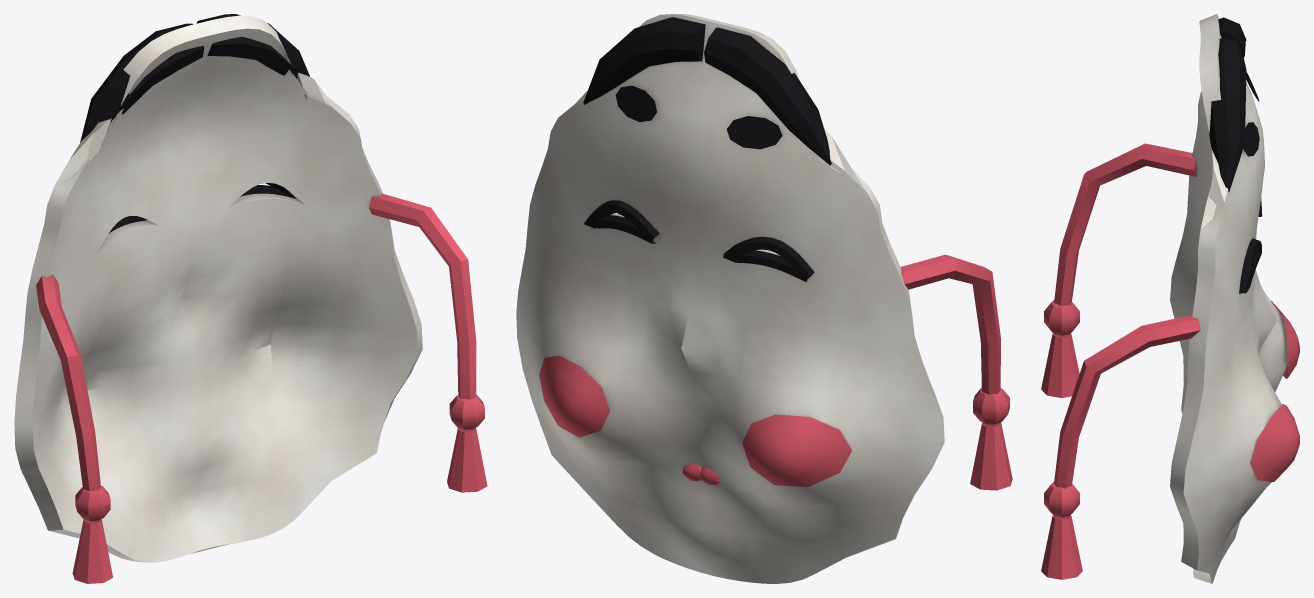
The model's file is mask_okame.fbx.
3 views of the same model, side by side, from view 1: azimuth 30°, elevation 25°; view 2: azimuth 150°, elevation 25°; view 3: azimuth 270°, elevation 25° (orthographic). The views are drawn at different scales.
Visible parts, largest first — view 1: mask_okame; view 2: mask_okame; view 3: mask_okame.
Boxes of the visible parts, x1,y1,x2,y2 form: mask_okame: (14, 14, 487, 583); mask_okame: (516, 14, 1012, 583); mask_okame: (1041, 14, 1299, 583).
Bounding box in the file's own units: 124 × 152 × 68.
1 material, 1 textured.
